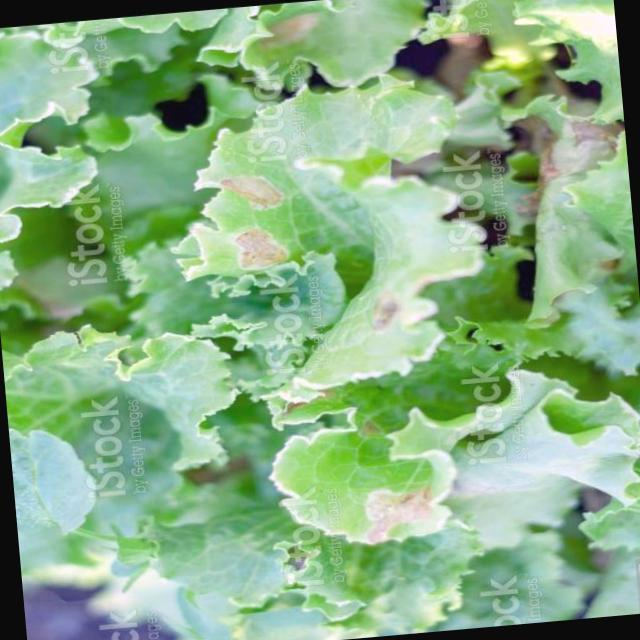Bacterial: (202, 83, 448, 390), (270, 422, 466, 554)
